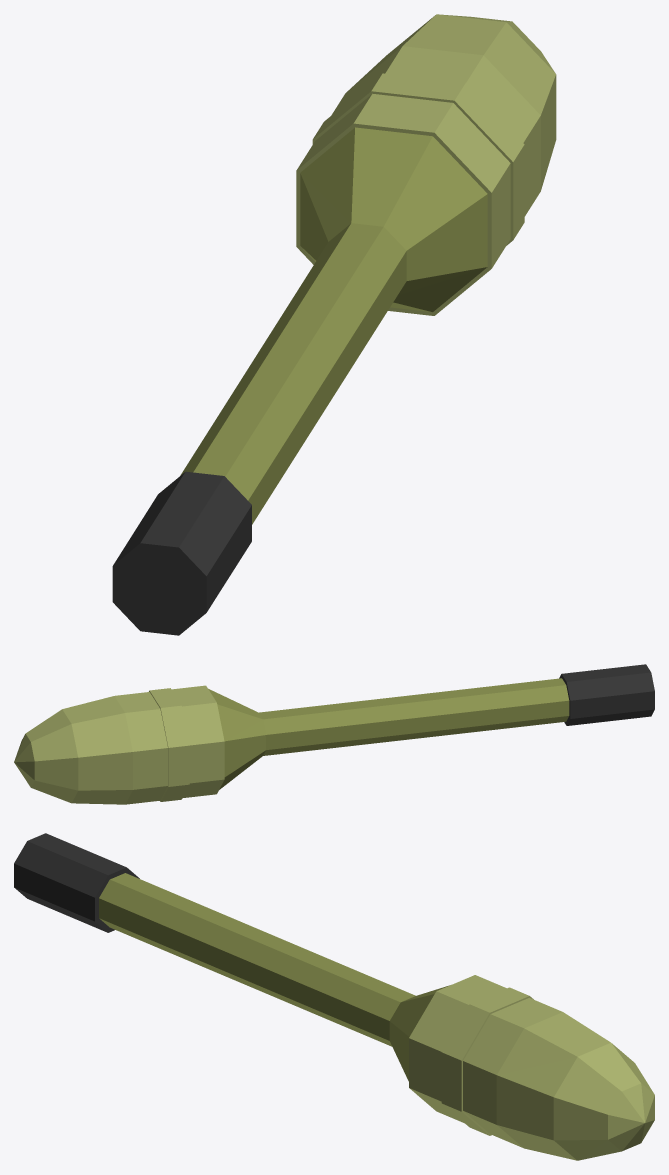
File: ce_ammo2_rpg_heat_a.obj
The picture shows the model from 3 angles, top to bottom: view 1: azimuth 30°, elevation 25°; view 2: azimuth 150°, elevation 25°; view 3: azimuth 270°, elevation 25°; orthographic projection. The views are drawn at different scales.
Visible parts, largest first — view 1: ce_ammo2_rpg_heat_a_1, ce_ammo2_rpg_heat_a_2, ce_ammo2_rpg_heat_a_0, ce_ammo2_rpg_heat_a_3, ce_ammo2_rpg_heat_a_6, ce_ammo2_rpg_heat_a_5, ce_ammo2_rpg_heat_a_4; view 2: ce_ammo2_rpg_heat_a_1, ce_ammo2_rpg_heat_a_6, ce_ammo2_rpg_heat_a_0, ce_ammo2_rpg_heat_a_3, ce_ammo2_rpg_heat_a_5, ce_ammo2_rpg_heat_a_7, ce_ammo2_rpg_heat_a_2, ce_ammo2_rpg_heat_a_4, ce_ammo2_rpg_heat_a_8; view 3: ce_ammo2_rpg_heat_a_1, ce_ammo2_rpg_heat_a_6, ce_ammo2_rpg_heat_a_7, ce_ammo2_rpg_heat_a_0, ce_ammo2_rpg_heat_a_5, ce_ammo2_rpg_heat_a_3, ce_ammo2_rpg_heat_a_4, ce_ammo2_rpg_heat_a_8, ce_ammo2_rpg_heat_a_2.
Part boxes in pixels (bbox=[...]): ce_ammo2_rpg_heat_a_1: bbox=[180, 223, 406, 524]; ce_ammo2_rpg_heat_a_2: bbox=[300, 127, 487, 312]; ce_ammo2_rpg_heat_a_0: bbox=[112, 471, 251, 635]; ce_ammo2_rpg_heat_a_3: bbox=[296, 93, 510, 315]; ce_ammo2_rpg_heat_a_6: bbox=[347, 14, 556, 189]; ce_ammo2_rpg_heat_a_5: bbox=[331, 46, 540, 216]; ce_ammo2_rpg_heat_a_4: bbox=[312, 73, 524, 245]; ce_ammo2_rpg_heat_a_1: bbox=[259, 678, 569, 755]; ce_ammo2_rpg_heat_a_6: bbox=[62, 696, 132, 804]; ce_ammo2_rpg_heat_a_0: bbox=[559, 664, 654, 725]; ce_ammo2_rpg_heat_a_3: bbox=[171, 685, 224, 797]; ce_ammo2_rpg_heat_a_5: bbox=[114, 692, 167, 804]; ce_ammo2_rpg_heat_a_7: bbox=[25, 709, 78, 803]; ce_ammo2_rpg_heat_a_2: bbox=[208, 688, 265, 789]; ce_ammo2_rpg_heat_a_4: bbox=[149, 688, 189, 801]; ce_ammo2_rpg_heat_a_8: bbox=[14, 734, 34, 787]; ce_ammo2_rpg_heat_a_1: bbox=[99, 873, 415, 1046]; ce_ammo2_rpg_heat_a_6: bbox=[496, 1012, 610, 1160]; ce_ammo2_rpg_heat_a_7: bbox=[553, 1043, 654, 1160]; ce_ammo2_rpg_heat_a_0: bbox=[14, 833, 139, 932]; ce_ammo2_rpg_heat_a_5: bbox=[463, 997, 562, 1147]; ce_ammo2_rpg_heat_a_3: bbox=[409, 975, 506, 1123]; ce_ammo2_rpg_heat_a_4: bbox=[441, 987, 533, 1135]; ce_ammo2_rpg_heat_a_8: bbox=[608, 1083, 654, 1151]; ce_ammo2_rpg_heat_a_2: bbox=[389, 985, 449, 1081].
Size of the model in its own units: 0.6702 by 0.1422 by 0.6702.
